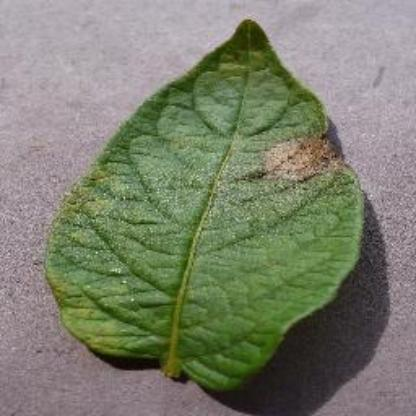Late-Blight: (6, 30, 384, 384)
